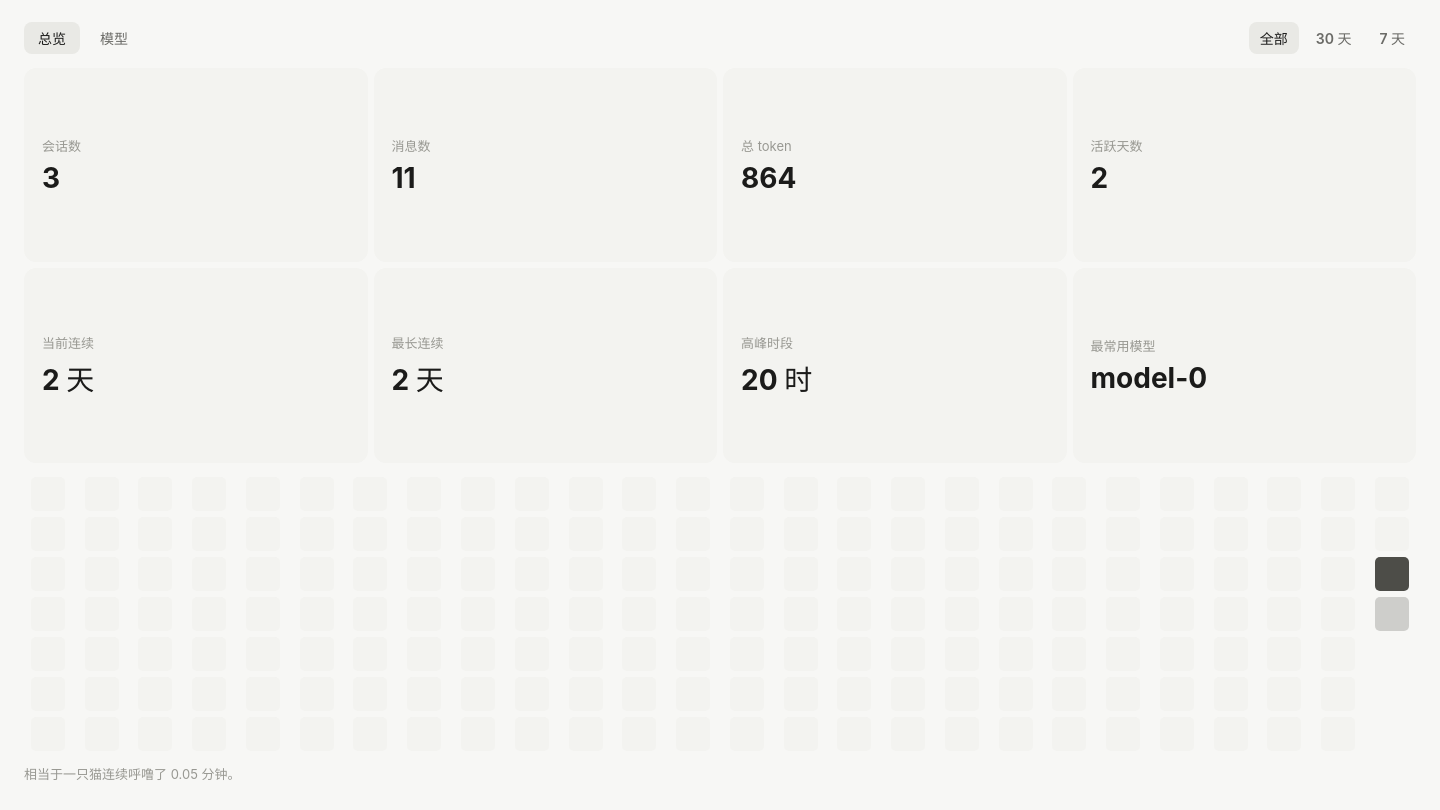
Test case: UsageStatsCard › keeps the legend short until the rest are asked for
Click the tab "模型".
click(114, 38)  # box [86,22,142,54]
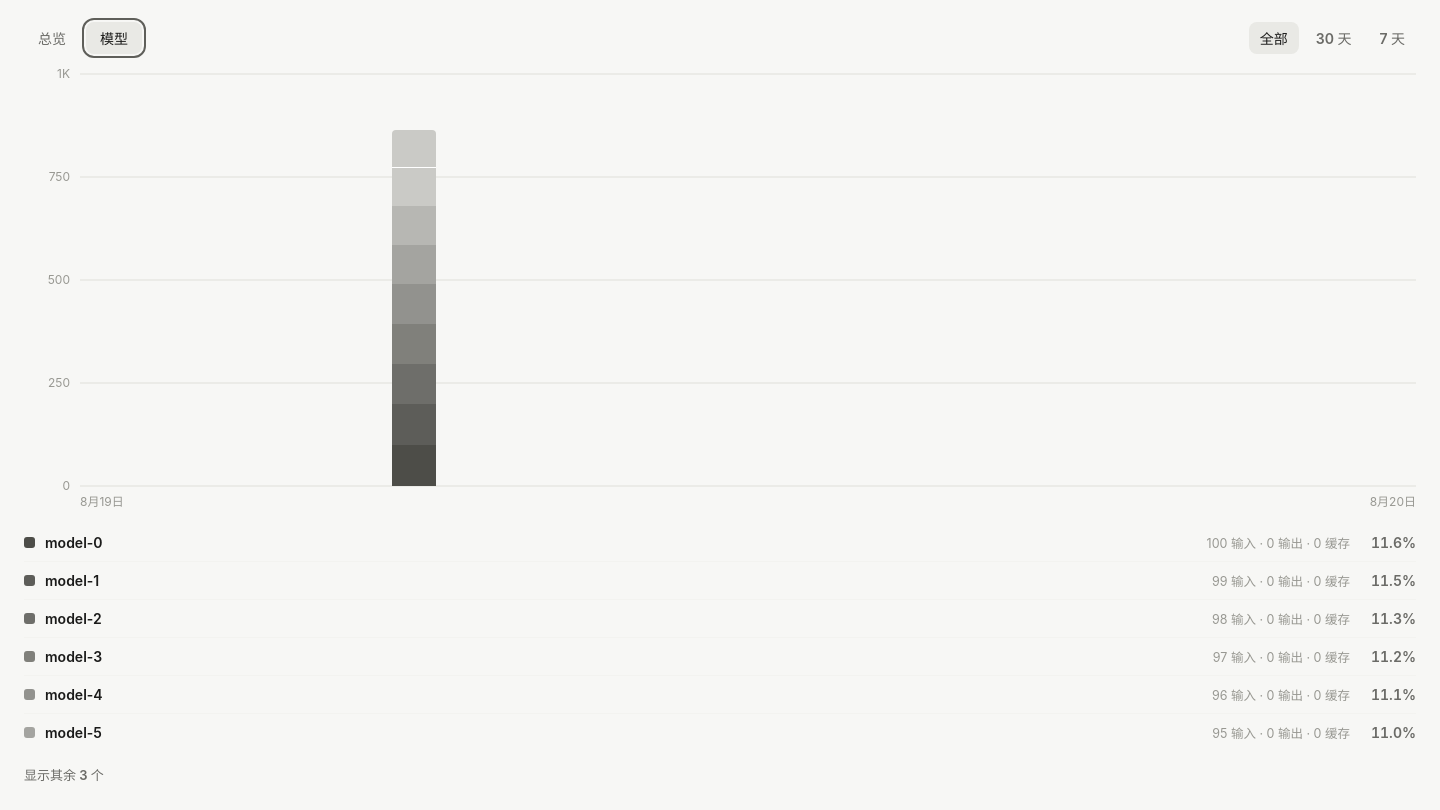
Expected: the text "model-8" is not shown
Expected: the number of list items is 6, [24,524,1416,561]; [24,561,1416,599]; [24,599,1416,637]; [24,637,1416,675]; [24,675,1416,713]; [24,713,1416,751]
Click the button "显示其余 3 个".
click(64, 774)  # box [24,765,104,784]
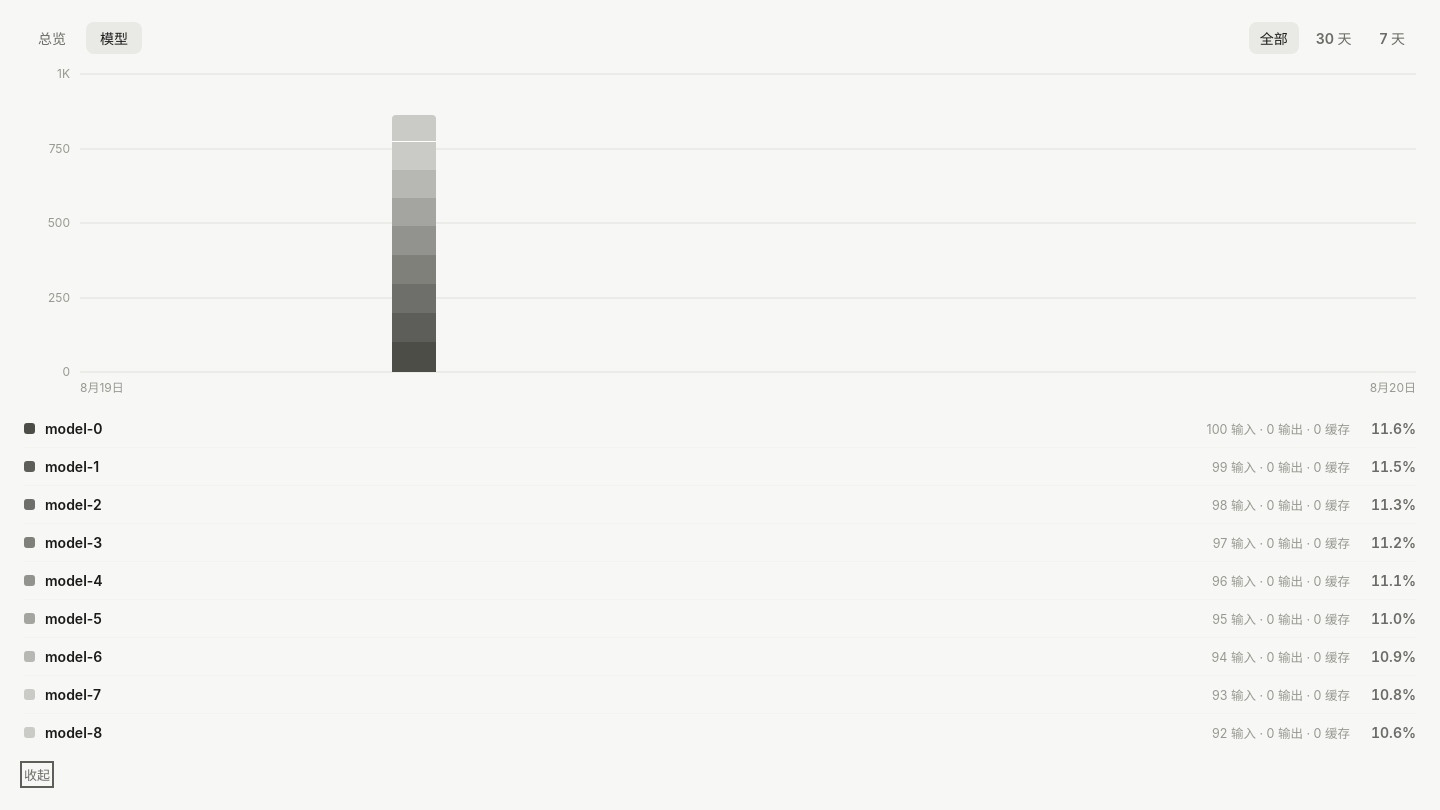
Expected: the number of list items is 9
Expected: the text "model-8" is shown, [45,724,102,741]
Click the button "收起".
click(37, 774)  # box [24,765,50,784]
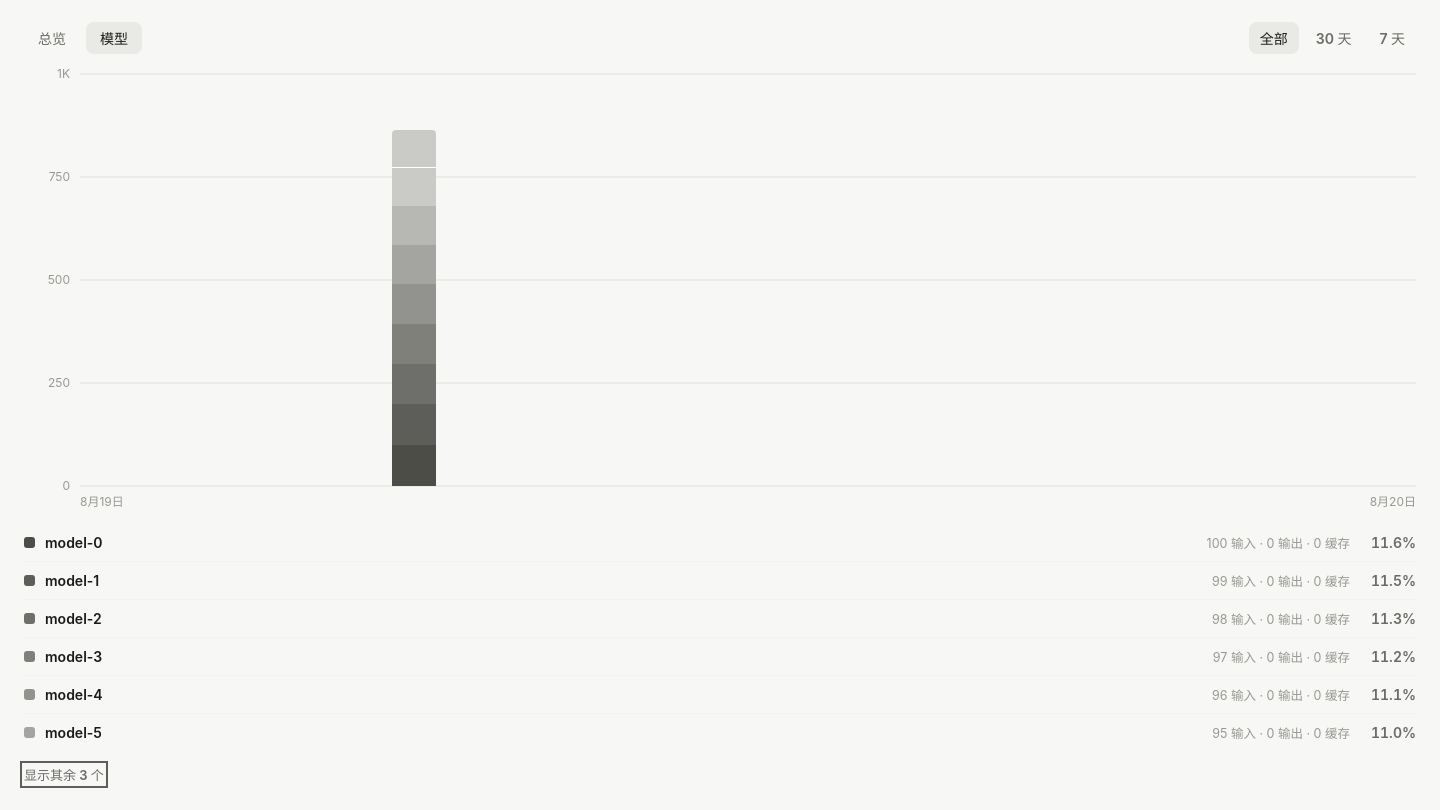
Expected: the number of list items is 6, [24,524,1416,561]; [24,561,1416,599]; [24,599,1416,637]; [24,637,1416,675]; [24,675,1416,713]; [24,713,1416,751]
